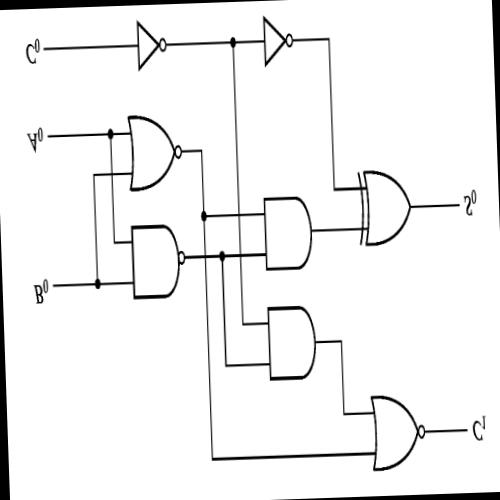and: (253, 284, 327, 395), (253, 177, 320, 283)
nand: (118, 208, 194, 317)
nor: (360, 376, 433, 486), (118, 104, 188, 202)
not: (126, 8, 175, 88), (250, 7, 303, 79)
xor: (346, 150, 425, 259)
